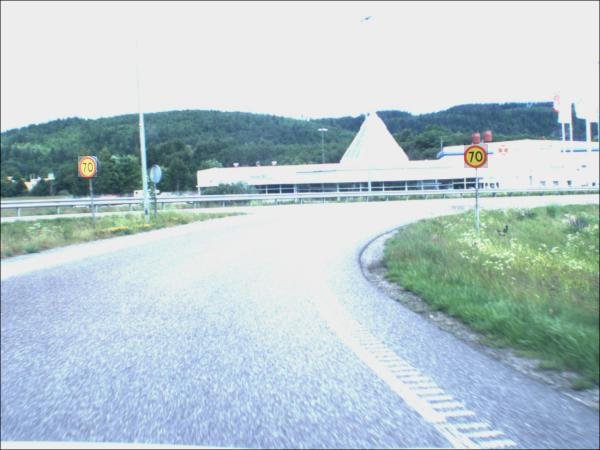70_SIGN: (465, 145, 490, 170), (79, 157, 99, 179)
